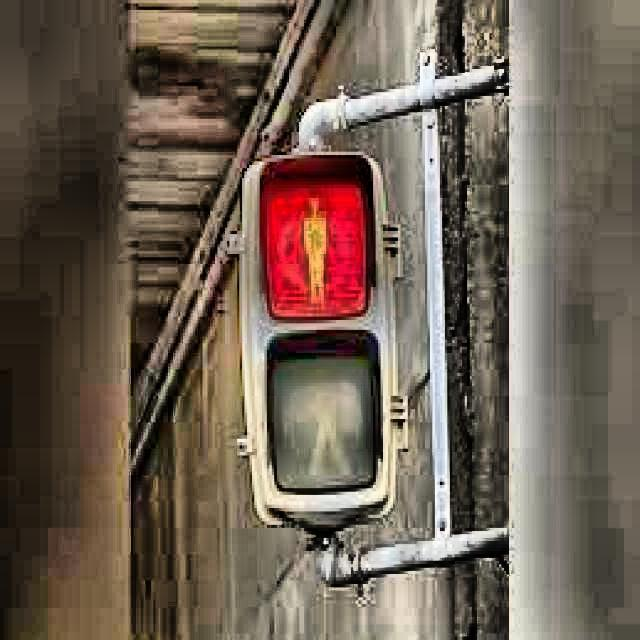semaforo pedestre: (138, 105, 492, 575)
